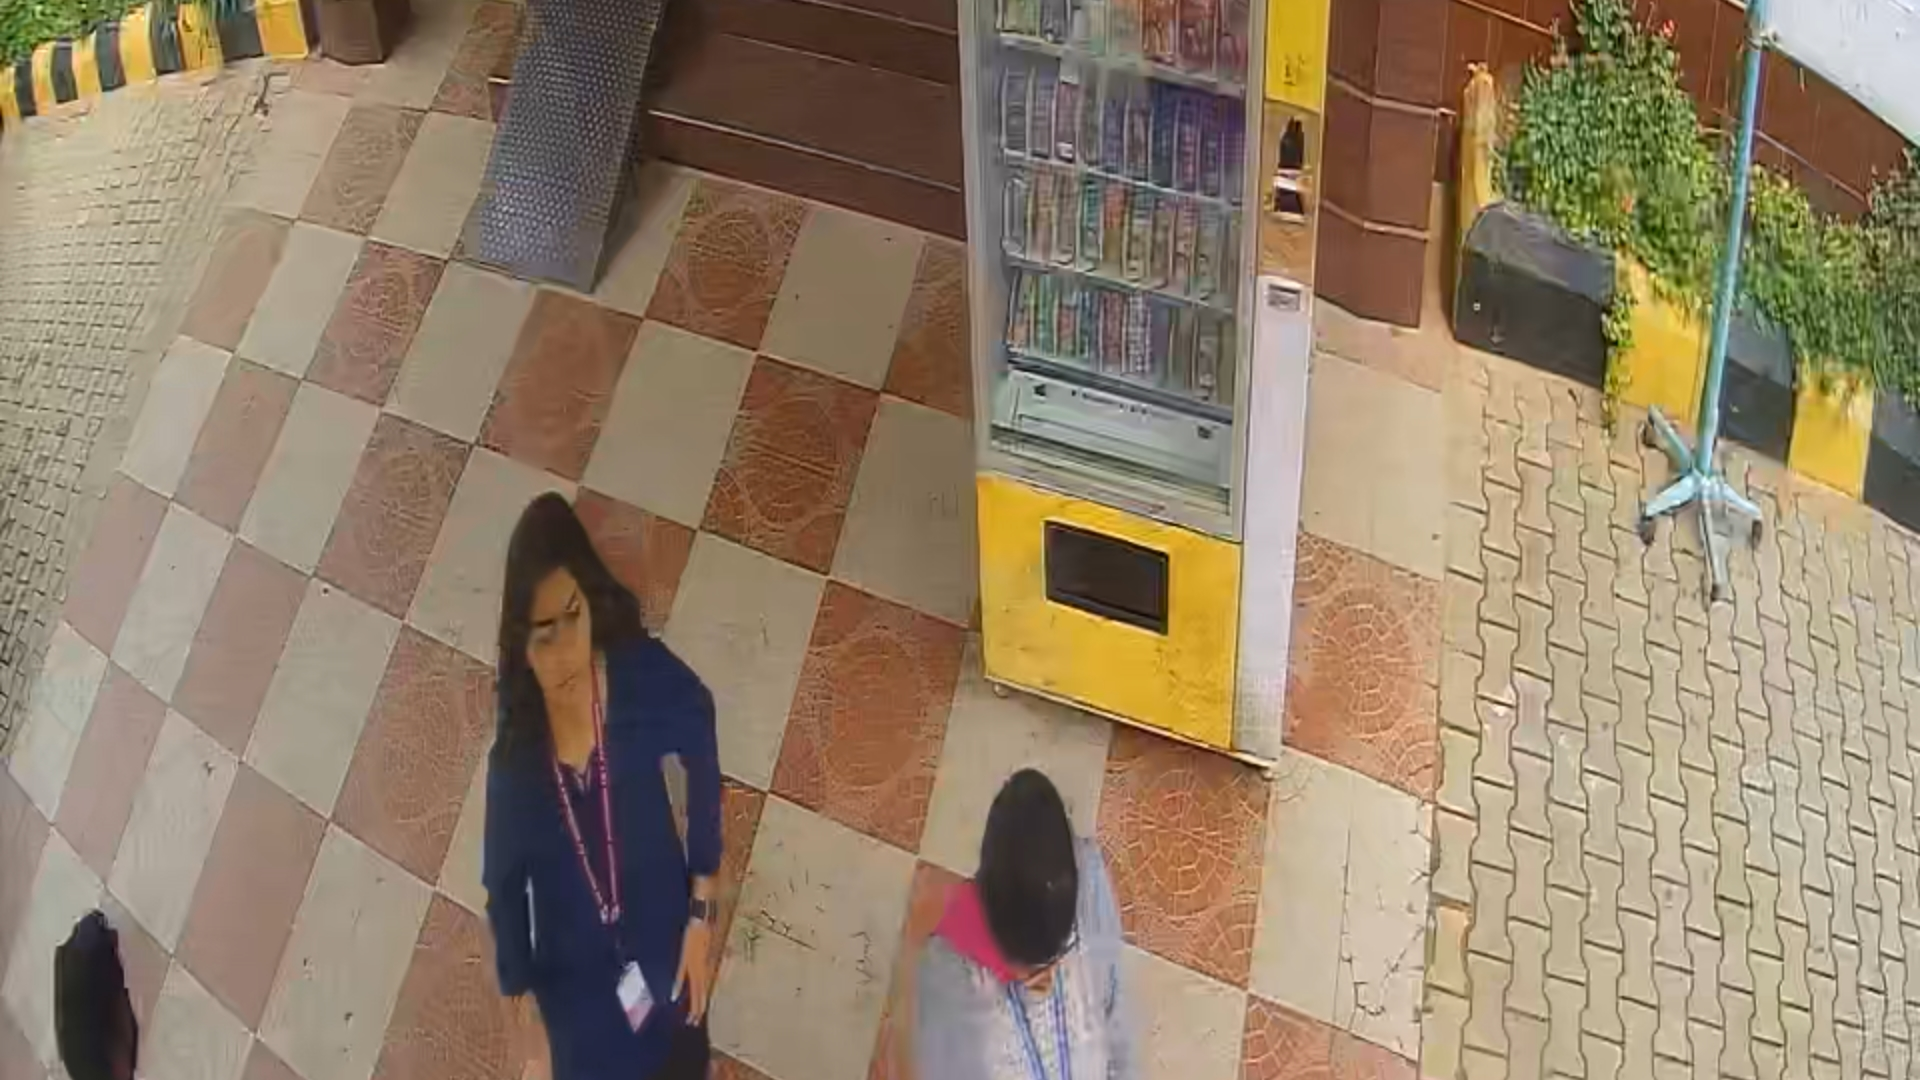not intruder: (447, 492, 789, 1076)
